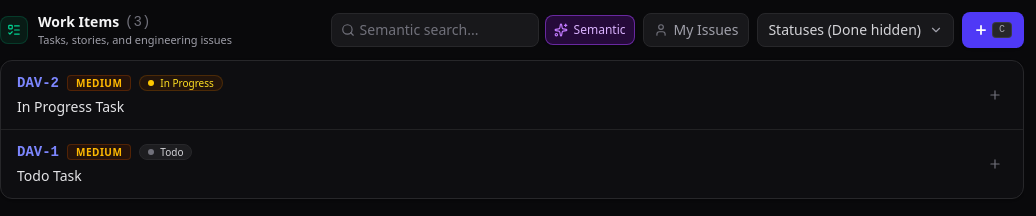
Test case: WorkItemList - Sorting and Multi-Select Status Filter › selects only that status when clicking the "only" button on an entry
Open dropdown
Step 1. Click the button with test id "status-filter-dropdown-button" → (856, 30), box [757,13,954,47]
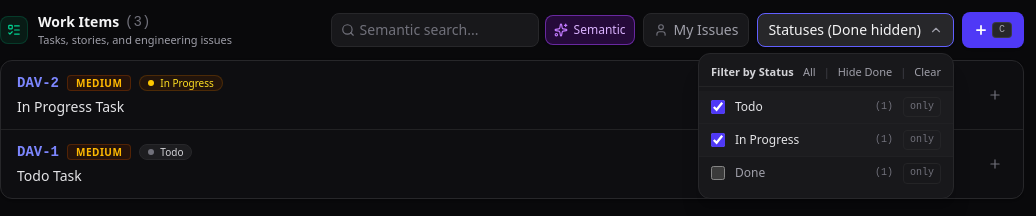
Click "only" on "done"
Step 2. Click the button with test id "status-only-done" → (922, 173), box [903,163,941,184]
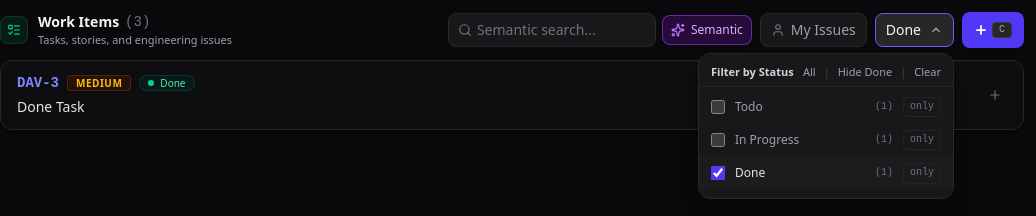
Now the element with test id "work-item-DAV-3" is shown, box [1,61,1023,129]
Now the element with test id "work-item-DAV-1" is gone
Now the element with test id "work-item-DAV-2" is gone
Step 3. Click the button with test id "status-only-todo" → (922, 107), box [903,97,941,117]
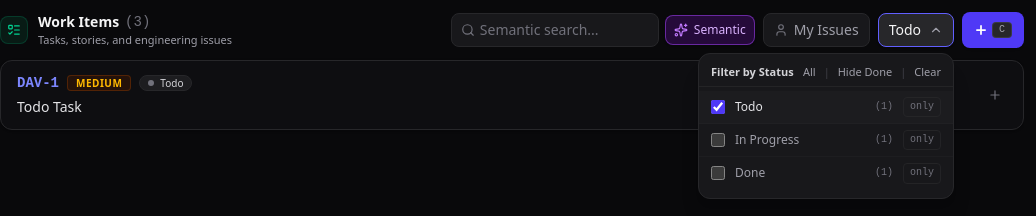
Now the element with test id "work-item-DAV-1" is shown, box [1,61,1023,129]
Now the element with test id "work-item-DAV-3" is gone
Now the button with test id "status-filter-dropdown-button" reads "Todo", box [878,13,954,47]
